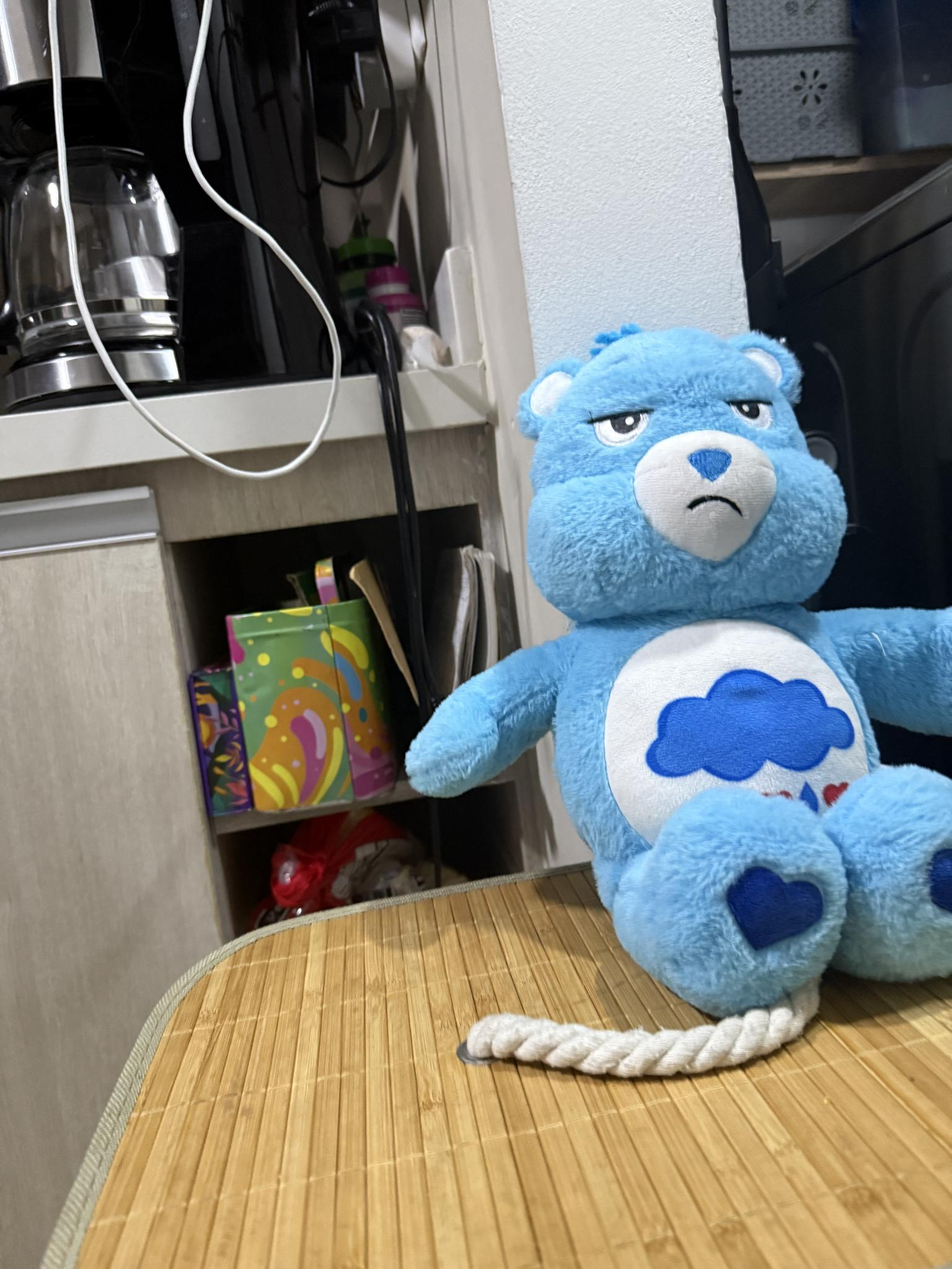peluche_Juan Jose: (400, 324, 940, 1022)
